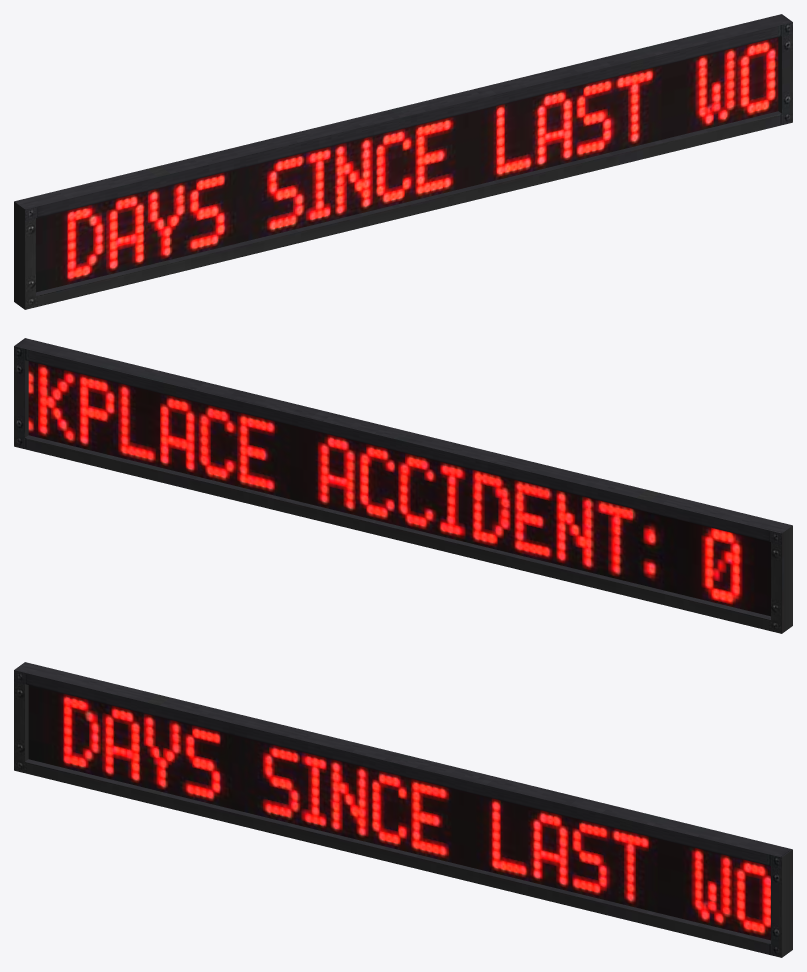
File: scroller.glb
3 views of the same model, one above another, from view 1: azimuth 30°, elevation 25°; view 2: azimuth 150°, elevation 25°; view 3: azimuth 330°, elevation 25° (orthographic).
Parts seen in each view (by area): view 1: scrollText.BAKED, scroller; view 2: scrollText.BAKED, scroller; view 3: scrollText.BAKED, scroller.
Part boxes in pixels (x1,y1,x2,y2): scrollText.BAKED: (36, 37, 778, 292); scroller: (14, 14, 792, 309); scrollText.BAKED: (28, 361, 770, 616); scroller: (14, 338, 792, 633); scrollText.BAKED: (28, 685, 770, 940); scroller: (14, 662, 792, 957).
Bounding box in the file's own units: 16 × 2 × 0.4.
1 material, 1 textured.
